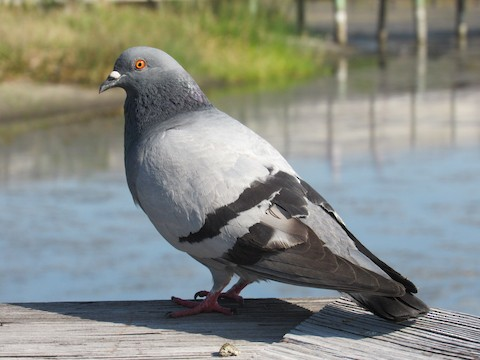pigeon: (95, 41, 432, 332)
